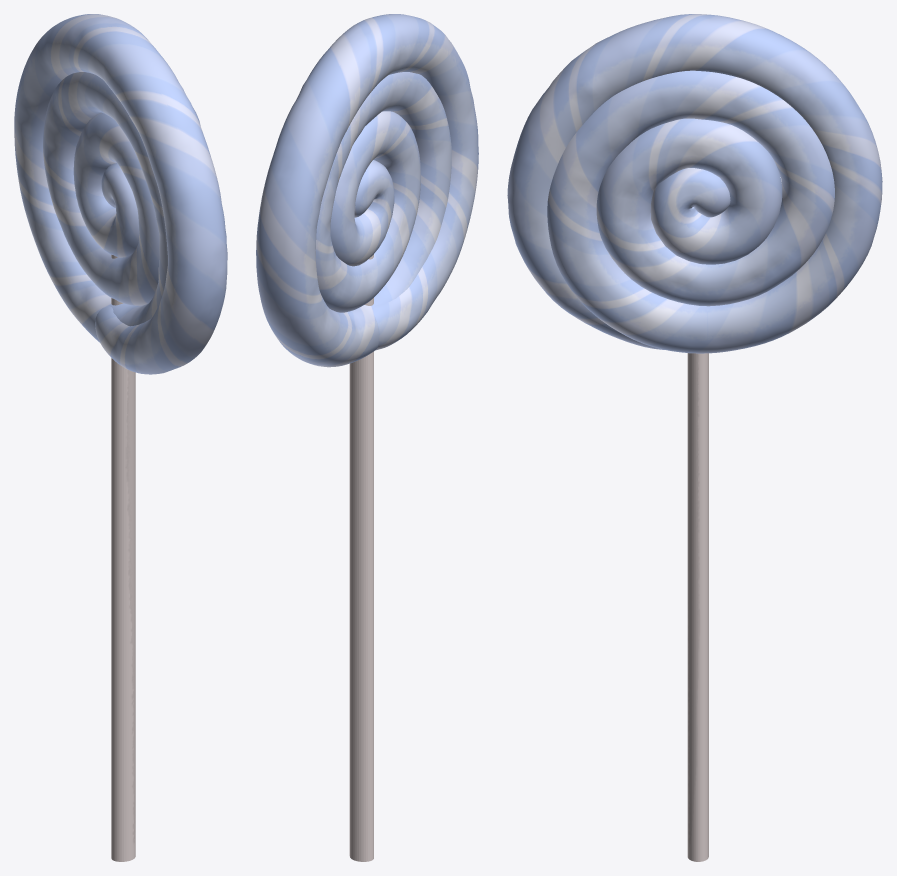
File: blue.glb
3 renders of one model, left to right at view 1: azimuth 30°, elevation 25°; view 2: azimuth 150°, elevation 25°; view 3: azimuth 270°, elevation 25°, orthographic.
Visible parts, largest first — view 1: lolipop6; view 2: lolipop6; view 3: lolipop6.
Part boxes in pixels (box(x1,y1,x2,y2)): lolipop6: box(14, 14, 227, 861); lolipop6: box(256, 14, 478, 861); lolipop6: box(507, 14, 882, 861).
Bounding box in the file's own units: 0.3661 × 4.3 × 1.75.
1 material, 1 textured.
